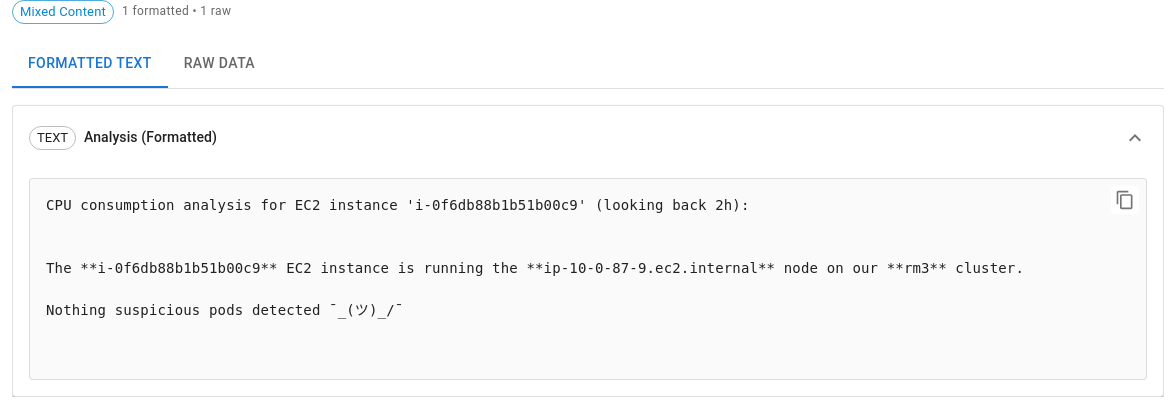
Test: JsonDisplay - MCP Tool Result Rendering › should parse and display MCP result with nested JSON containing formatted text
// Click on the "Raw Data" tab to see the JSON section
What coordinates should you click on to do the following:
click the tab "Raw Data"
I would click on:
 (219, 64)
Its box is [168,40,271,88].
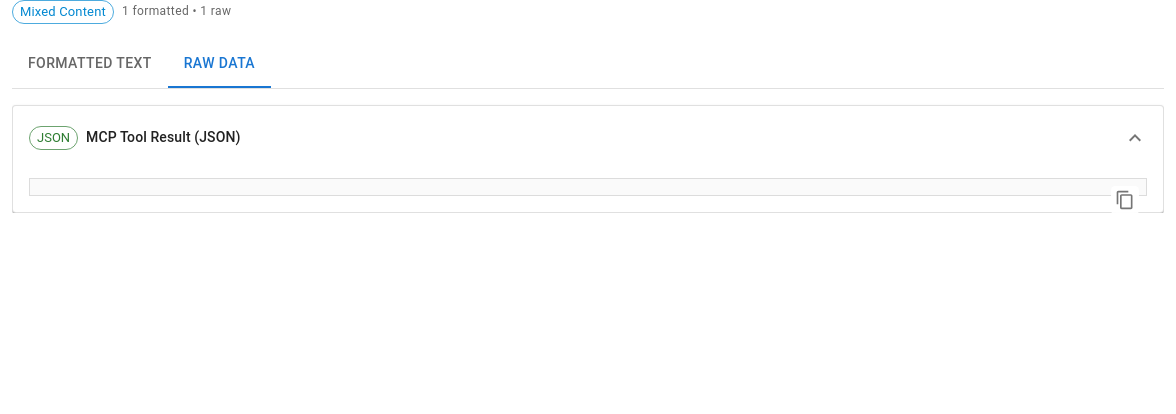
Expected: the text "MCP Tool Result (JSON)" is shown, [86,127,240,149]
